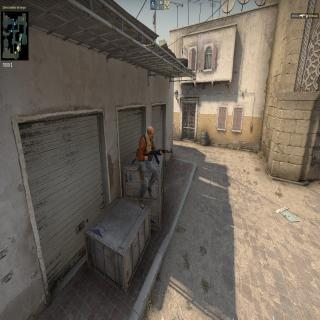T-Head: (146, 124, 155, 143)
